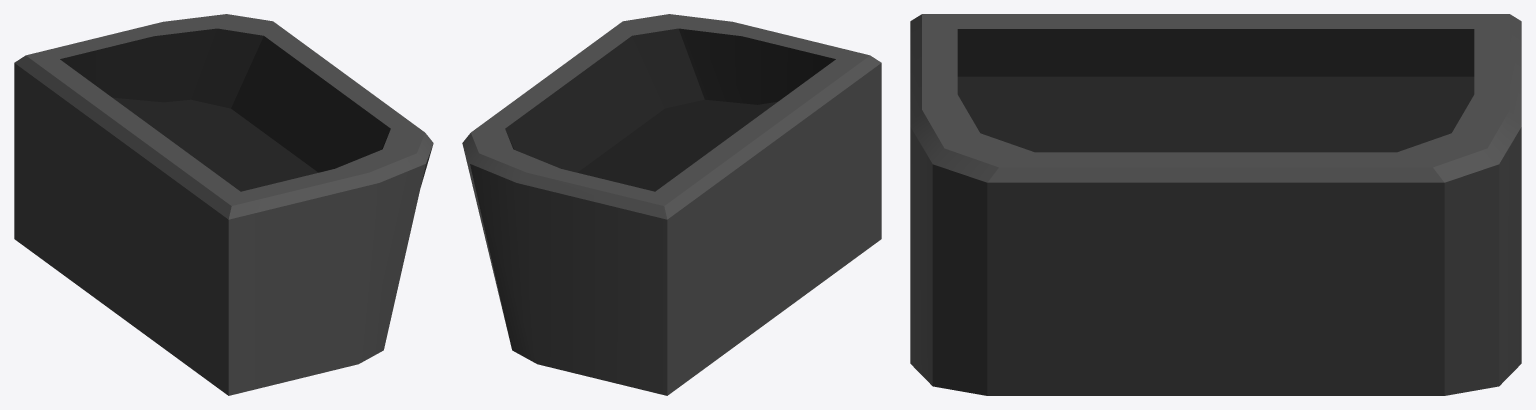
File: TicketMachineMouthV2.fbx
3 renders of one model, left to right at view 1: azimuth 30°, elevation 25°; view 2: azimuth 150°, elevation 25°; view 3: azimuth 270°, elevation 25°, orthographic. The views are drawn at different scales.
Parts seen in each view (by area): view 1: TicketMachineMouthV2; view 2: TicketMachineMouthV2; view 3: TicketMachineMouthV2.
Part boxes in pixels (x1,y1,x2,y2): TicketMachineMouthV2: (14, 14, 433, 395); TicketMachineMouthV2: (462, 14, 881, 395); TicketMachineMouthV2: (910, 14, 1521, 395).
Size of the model in its own units: 0.5319 by 0.4051 by 0.8508.
